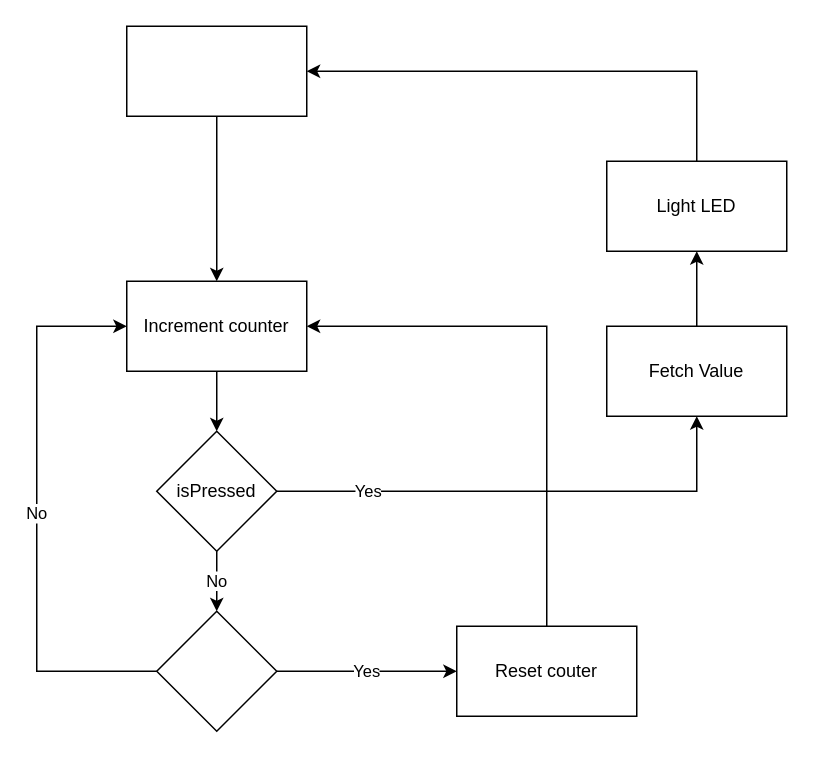
Image size: 813x758. Some labels were removed from this diagram. The centre of each missing label's shape, as x and y in pixels:
counter=6: point (216, 670)
Main: point (216, 70)
